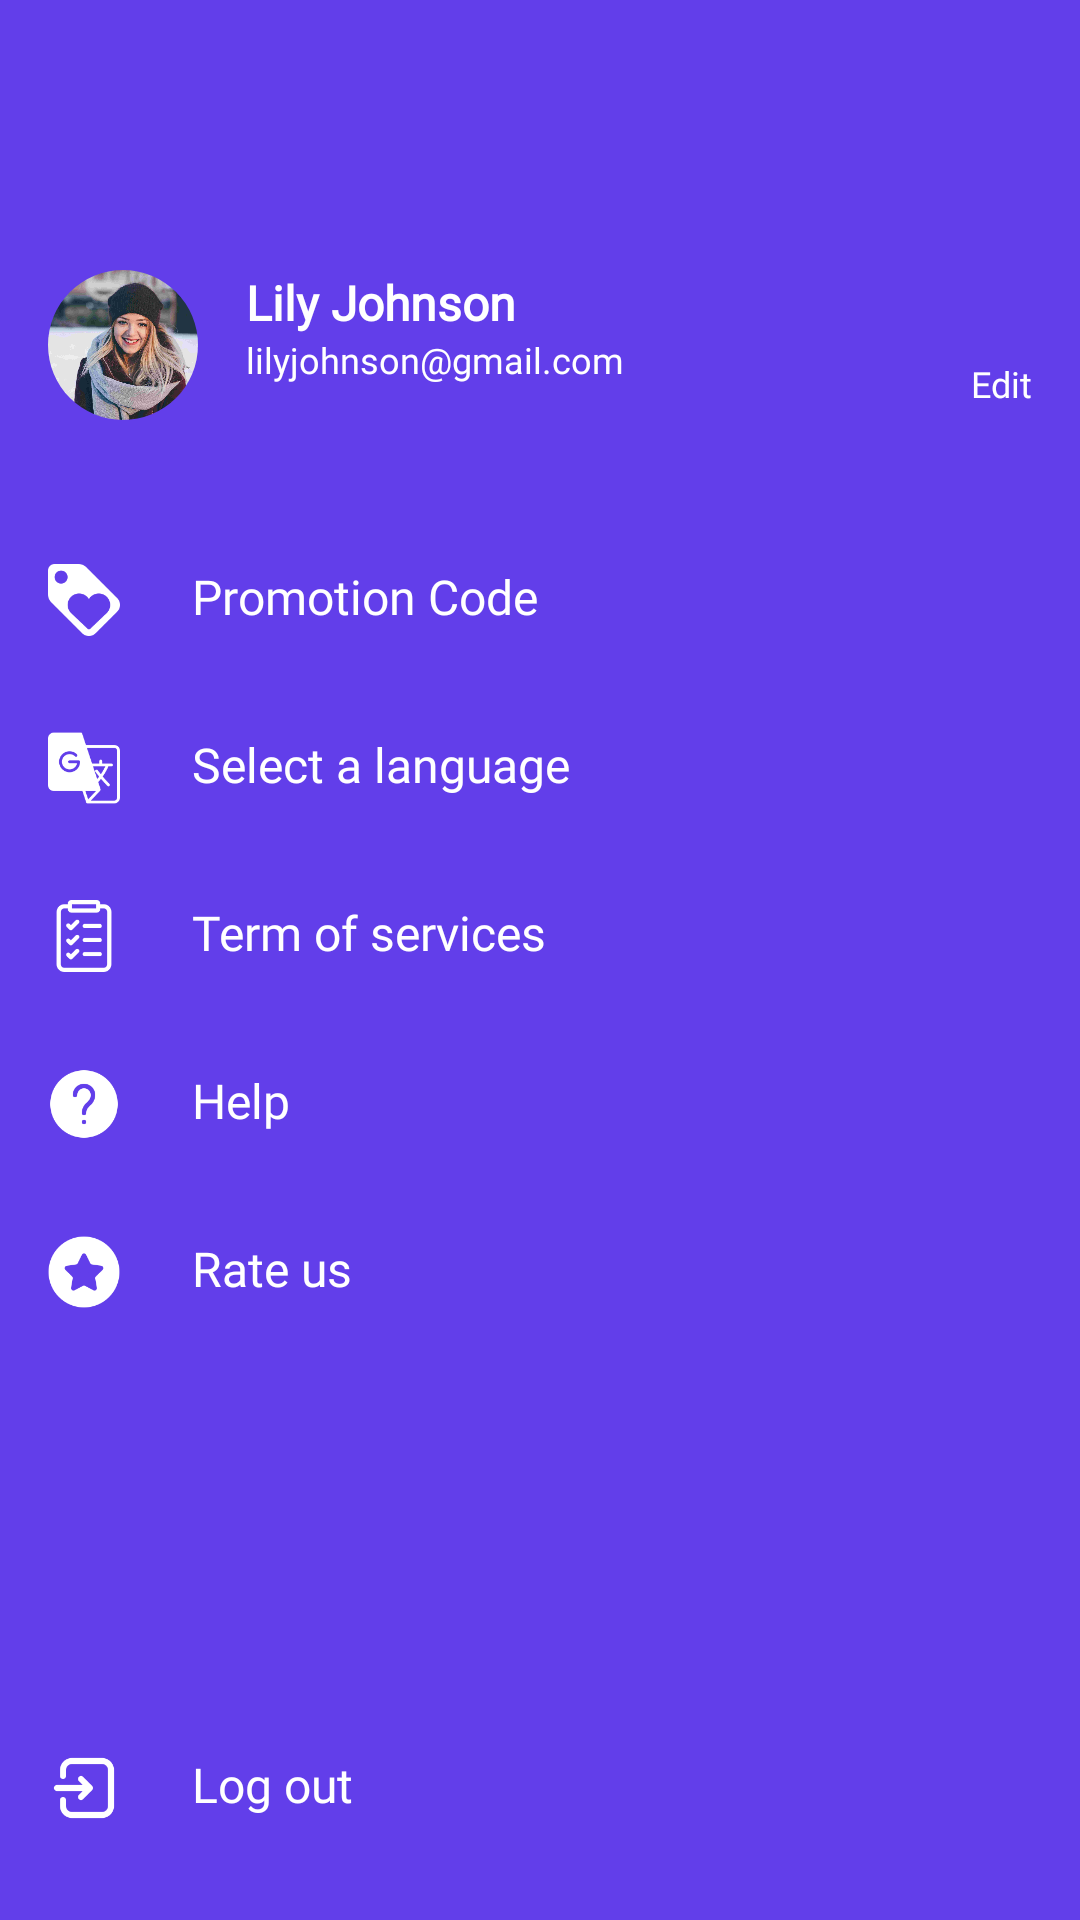

Where to tap for icons on this 1080*1920 app screen, as point (x, y):
term and services: point (84, 936)
